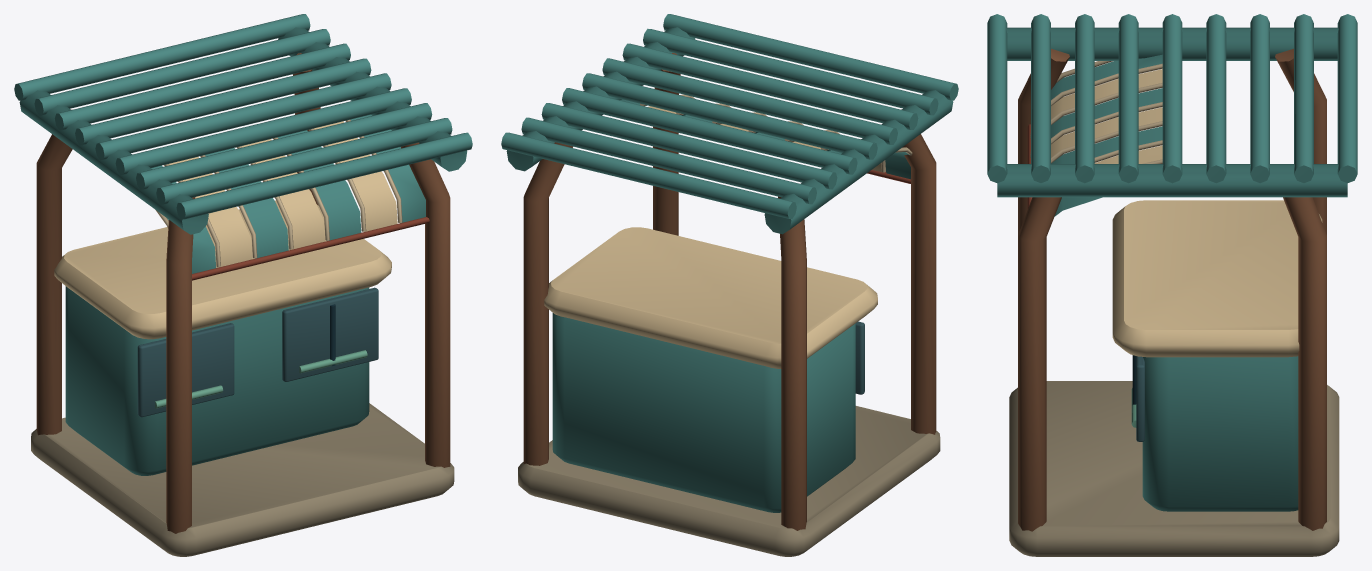
File: annex_wash_4.glb
The picture shows the model from 3 angles, left to right: view 1: azimuth 30°, elevation 25°; view 2: azimuth 150°, elevation 25°; view 3: azimuth 270°, elevation 25°; orthographic projection. The views are drawn at different scales.
Parts seen in each view (by area): view 1: Annex_wash_4; view 2: Annex_wash_4; view 3: Annex_wash_4.
Boxes of the visible parts, x1,y1,x2,y2 form: Annex_wash_4: [14, 14, 472, 556]; Annex_wash_4: [501, 14, 958, 556]; Annex_wash_4: [987, 14, 1357, 556].
Size of the model in its own units: 1.93 by 2.32 by 1.98.
